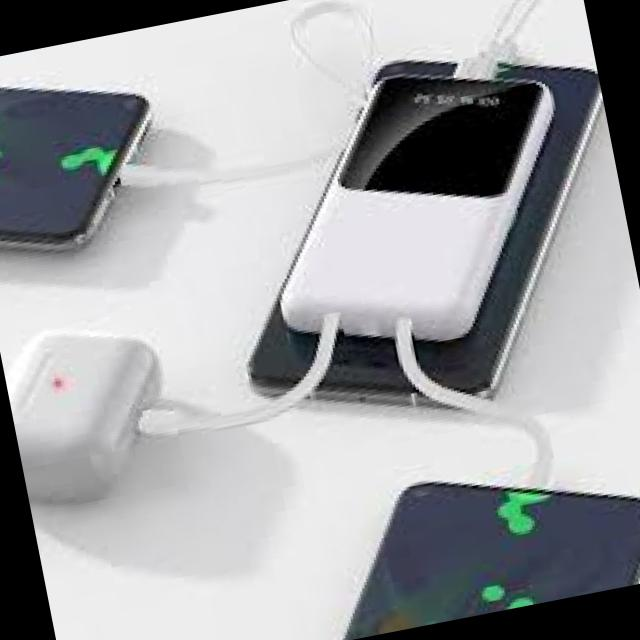power_bank: (236, 39, 600, 382)
